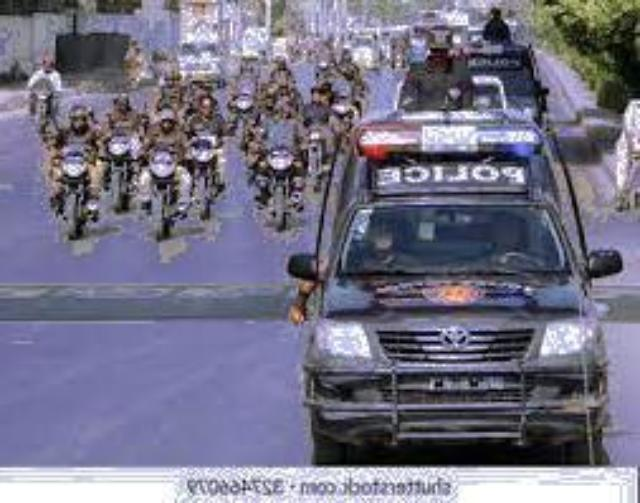police_car: (286, 106, 620, 460)
